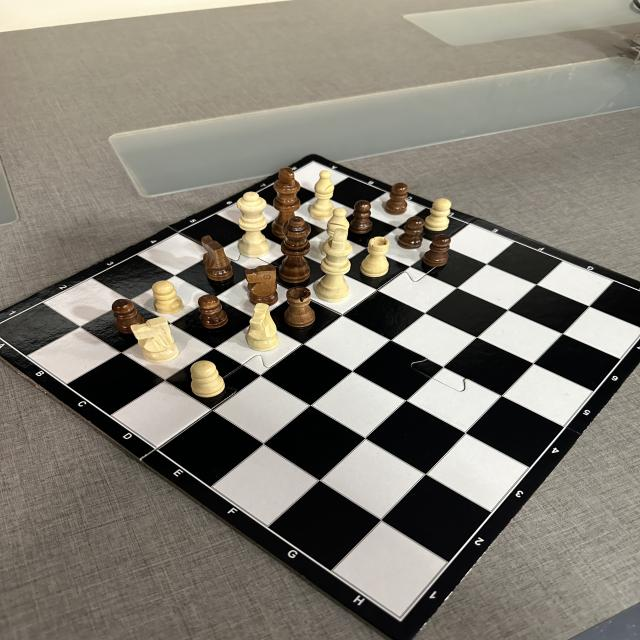Black-King: (273, 168, 299, 238)
Black-Knight: (200, 235, 233, 280), (245, 265, 277, 306)
Black-Pawn: (110, 299, 144, 333), (197, 294, 228, 328), (423, 234, 451, 268), (398, 216, 424, 249), (384, 182, 409, 215), (350, 200, 372, 234)
Black-Queen: (279, 216, 311, 283)
Black-Rook: (285, 287, 315, 327)
White-Bishop: (308, 169, 334, 220), (322, 207, 348, 257)
White-King: (315, 228, 352, 302)
White-Knight: (131, 318, 179, 362), (246, 302, 278, 352)
White-Pawn: (190, 360, 225, 398), (152, 280, 185, 314), (424, 197, 452, 231)
White-Queen: (237, 192, 270, 258)
White-Rook: (360, 236, 390, 277)
